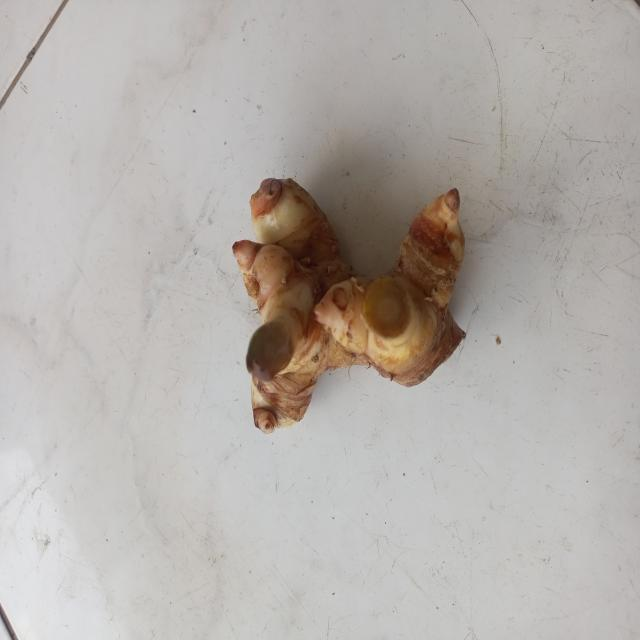ginger: (230, 180, 473, 420)
